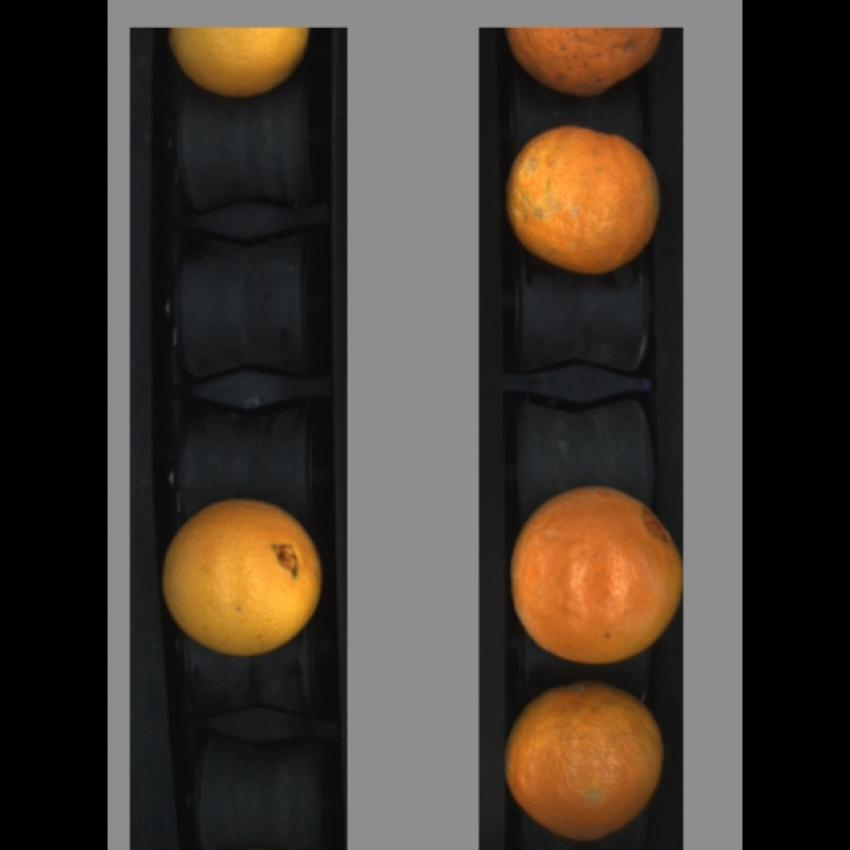Buen estado: (157, 487, 330, 659), (165, 29, 320, 99)
Mal estado: (508, 474, 681, 672), (504, 680, 674, 849), (504, 117, 666, 278), (501, 32, 670, 102)
